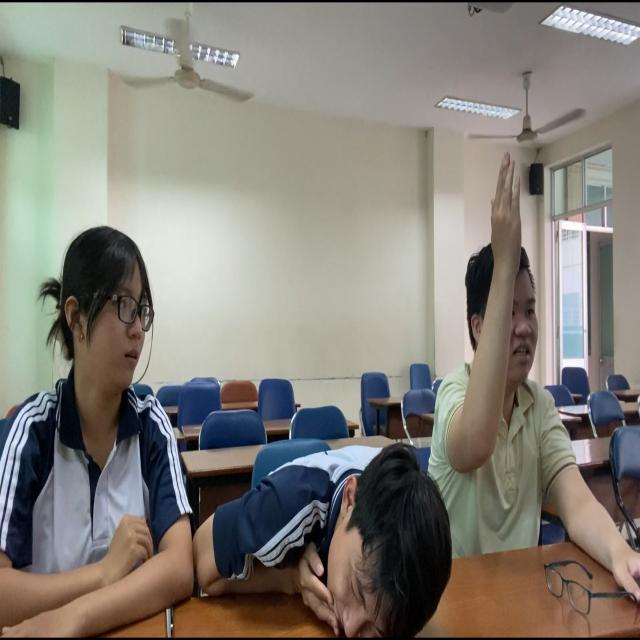raise_hand: (432, 143, 574, 522)
sleep: (197, 417, 475, 640)
